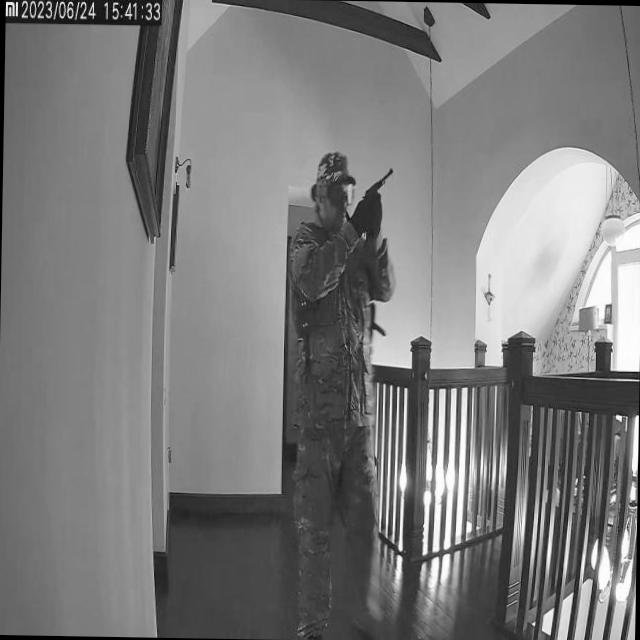gun: (362, 162, 394, 209)
person with a gun: (282, 150, 393, 638)
